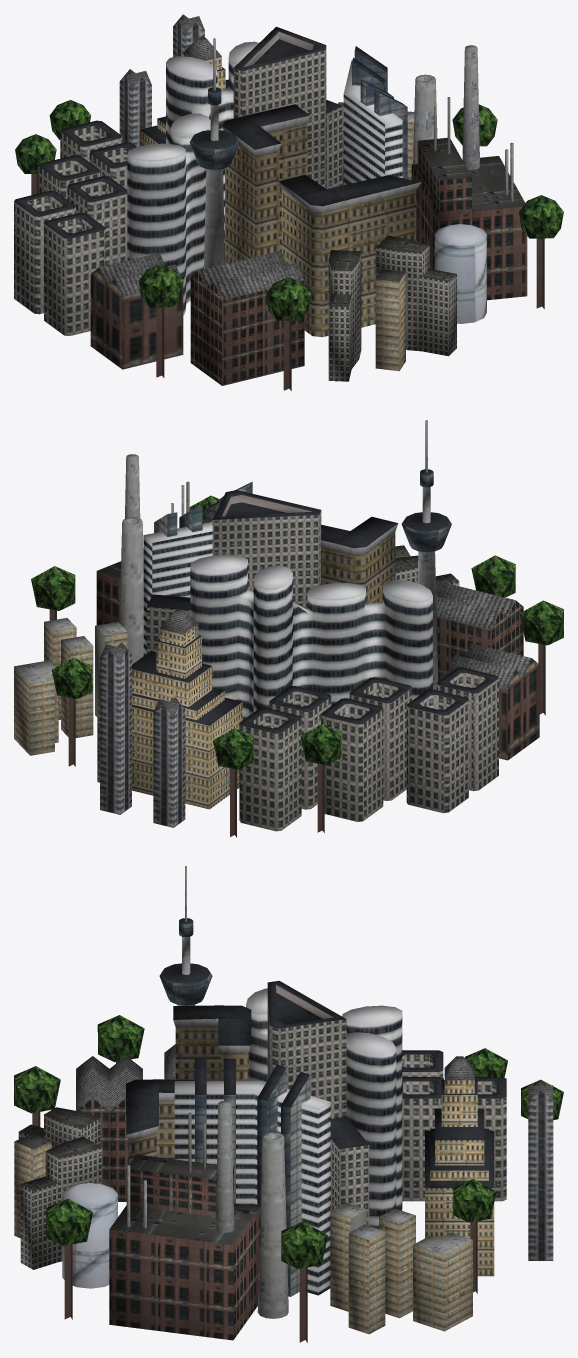
The model's file is city_modern_3.glb.
3 views of the same model, one above another, from view 1: azimuth 30°, elevation 25°; view 2: azimuth 150°, elevation 25°; view 3: azimuth 270°, elevation 25° (orthographic). The views are drawn at different scales.
Visible parts, largest first — view 1: ModernCity_Tier4; view 2: ModernCity_Tier4; view 3: ModernCity_Tier4.
Part boxes in pixels (box(x1,y1,x2,y2)): ModernCity_Tier4: box(14, 14, 563, 390); ModernCity_Tier4: box(14, 420, 563, 837); ModernCity_Tier4: box(14, 866, 563, 1342).
Size of the model in its own units: 3.96 by 2.56 by 4.01.
1 material, 1 textured.
